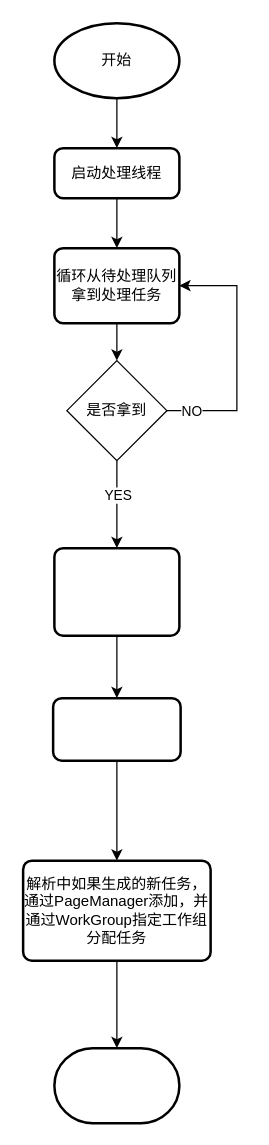
Image size: 269x1145. Some labels were removed from this diagram. Here are the shapes that lost their labels. From the top down, the centre of each, then its label:
At point 116,591: "根据数据中Page的ProcessType通过HandleFactory创建对应的Handler".
At point 116,728: "处理解析数据， 更新缓存。".
At point 116,1085: "结束".
